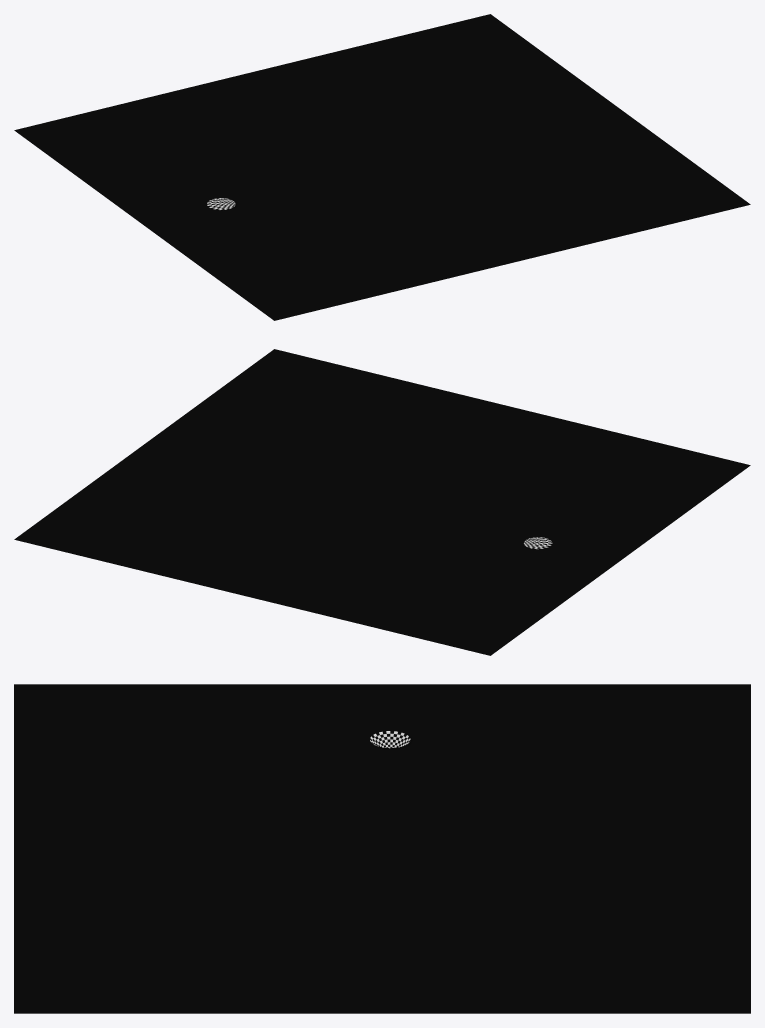
File: freefall2 1.fbx
3 renders of one model, top to bottom at view 1: azimuth 30°, elevation 25°; view 2: azimuth 150°, elevation 25°; view 3: azimuth 270°, elevation 25°, orthographic. The views are drawn at different scales.
Visible parts, largest first — view 1: Cylinder.001; view 2: Cylinder.001; view 3: Cylinder.001.
Boxes of the visible parts, bbox=[...] form: Cylinder.001: bbox=[14, 14, 750, 320]; Cylinder.001: bbox=[14, 349, 750, 655]; Cylinder.001: bbox=[14, 684, 750, 1013].
Size of the model in its own units: 39835 by 21.93 by 37712.
